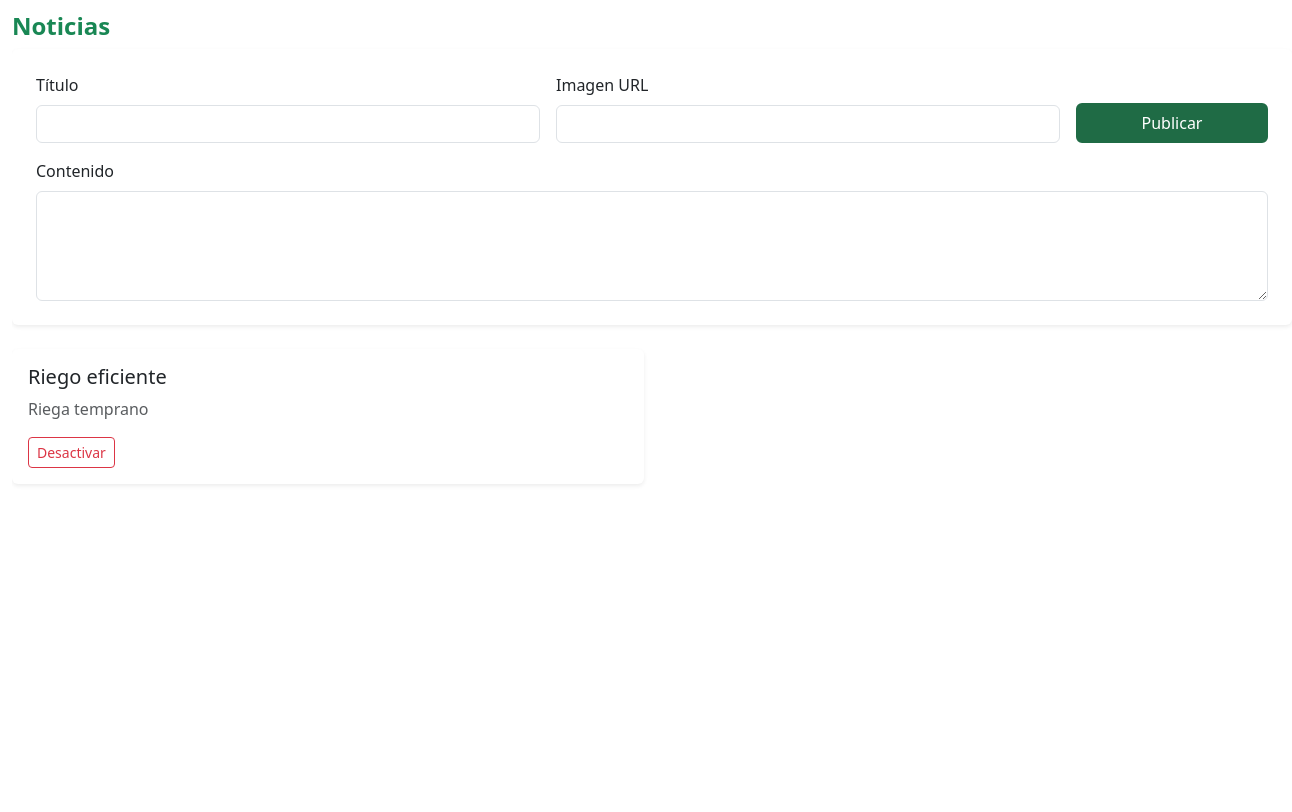
Test: BlogManager › informa el error al fallar la publicación
expect the heading "Riego eficiente" is shown: met, box [28,363,167,390]
Type "X" into the field labelled "Título". click: point(288, 124)
box: [36,105,540,143]
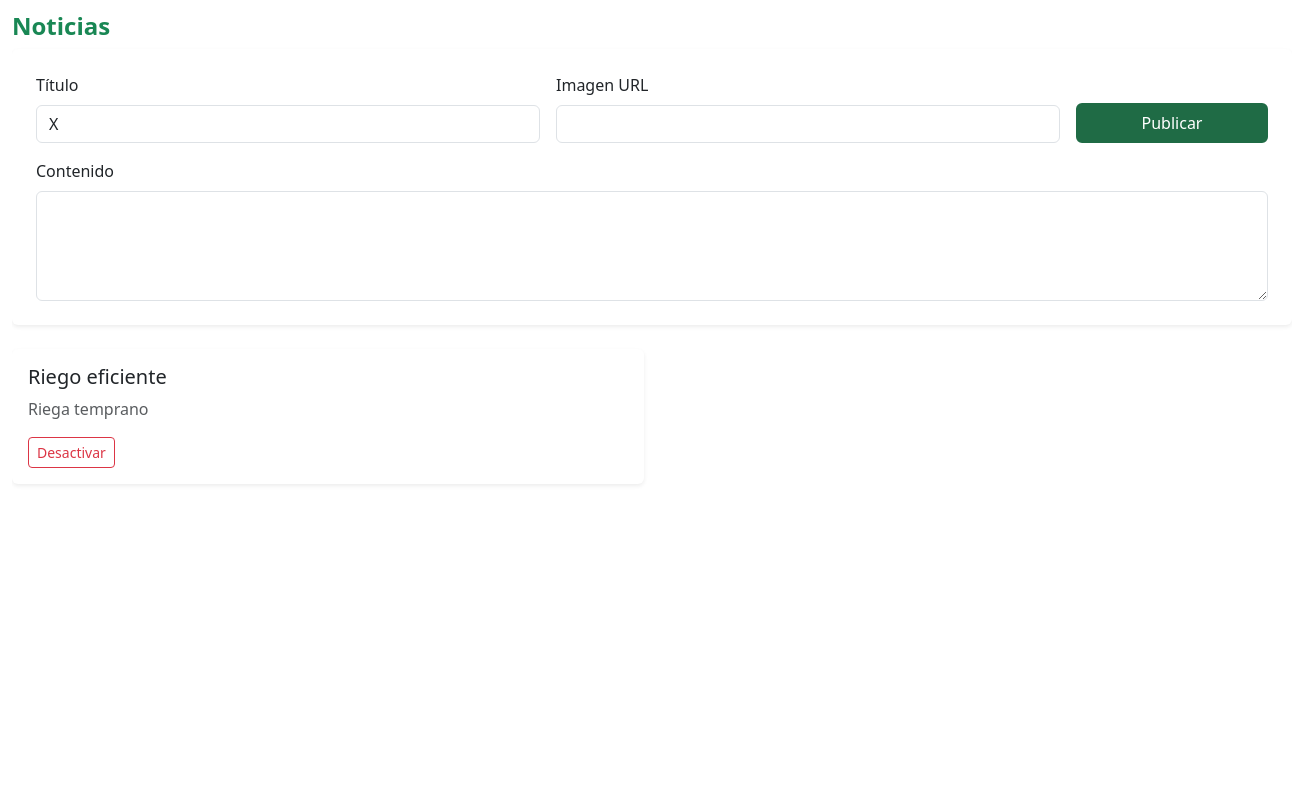
Type "Y" into the text box labelled "Contenido". click: point(652, 246)
box: [36,191,1268,301]
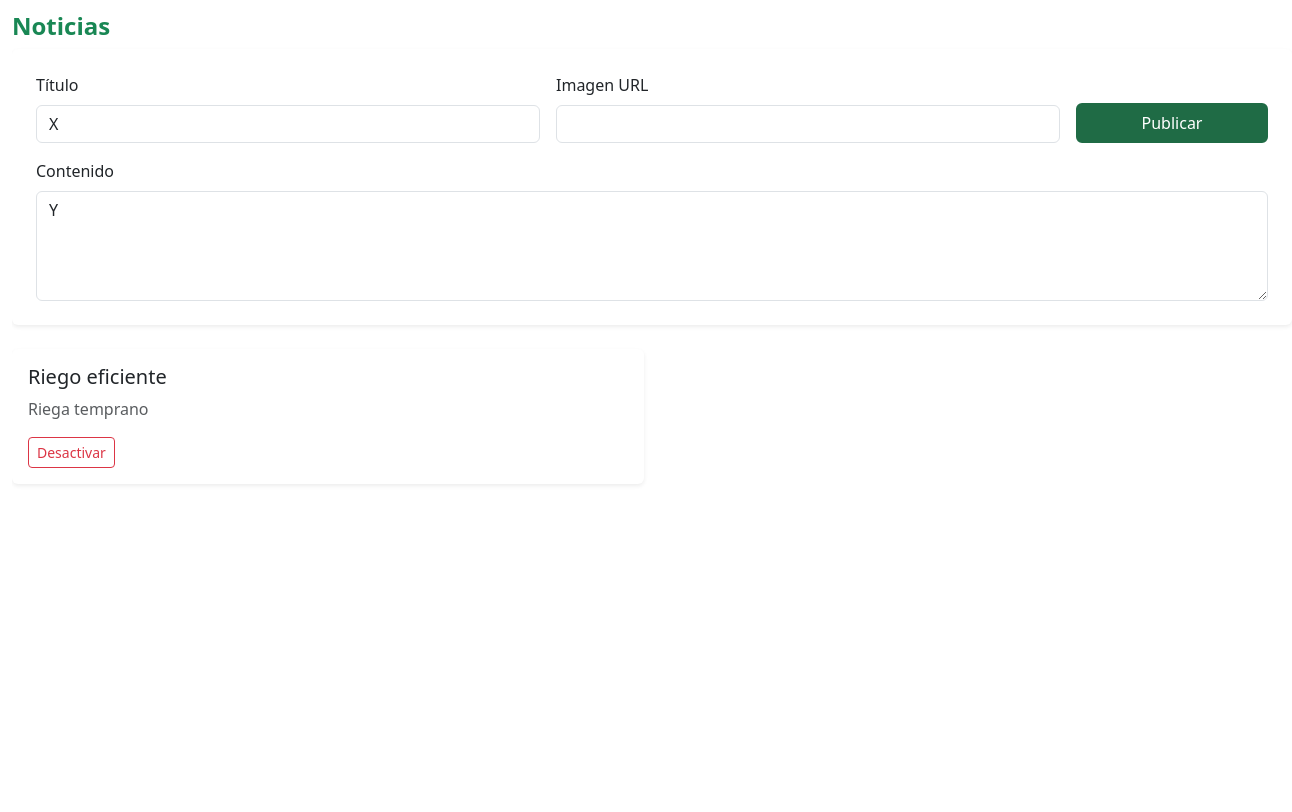
Click the button "Publicar". click: point(1172, 123)
box: [1076,103,1268,143]
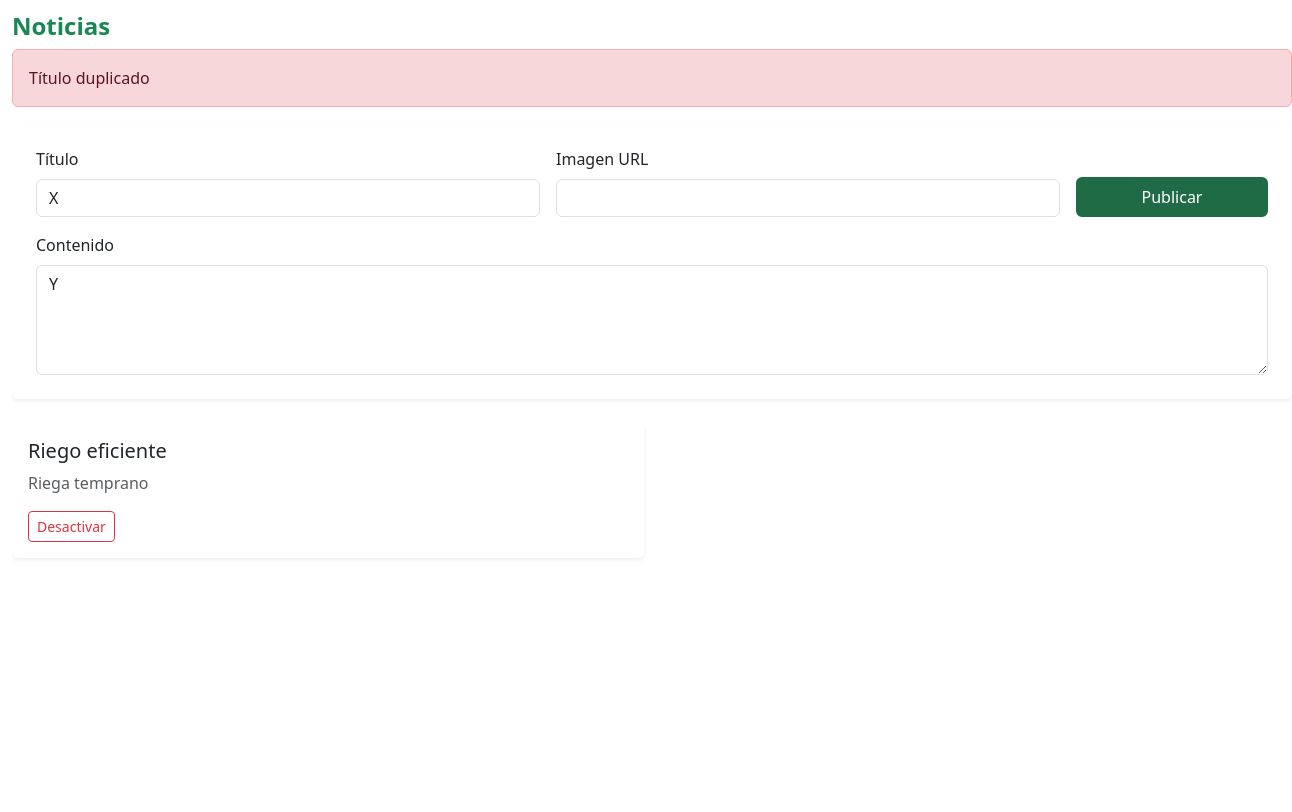
expect the text "Título duplicado" is shown: met, box [12,49,1291,107]
